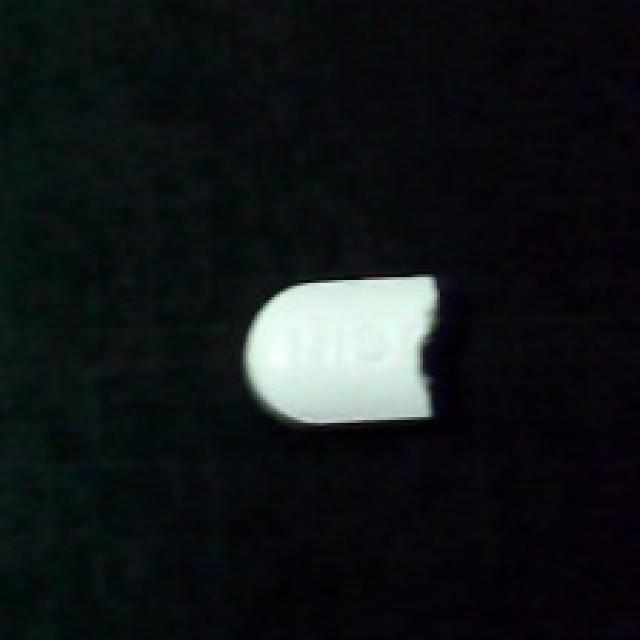defected: (240, 260, 449, 434)
